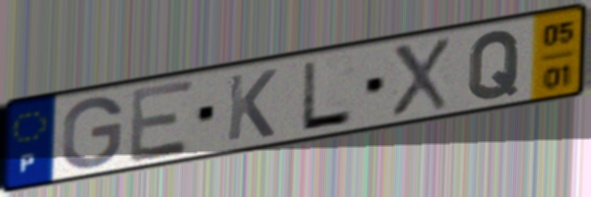E: (127, 75, 198, 166)
G: (58, 94, 127, 171)
K: (223, 66, 280, 144)
L: (297, 58, 356, 133)
Q: (464, 28, 524, 103)
X: (389, 35, 453, 120)
